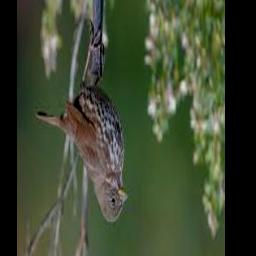Sparrow: (36, 20, 128, 224)
